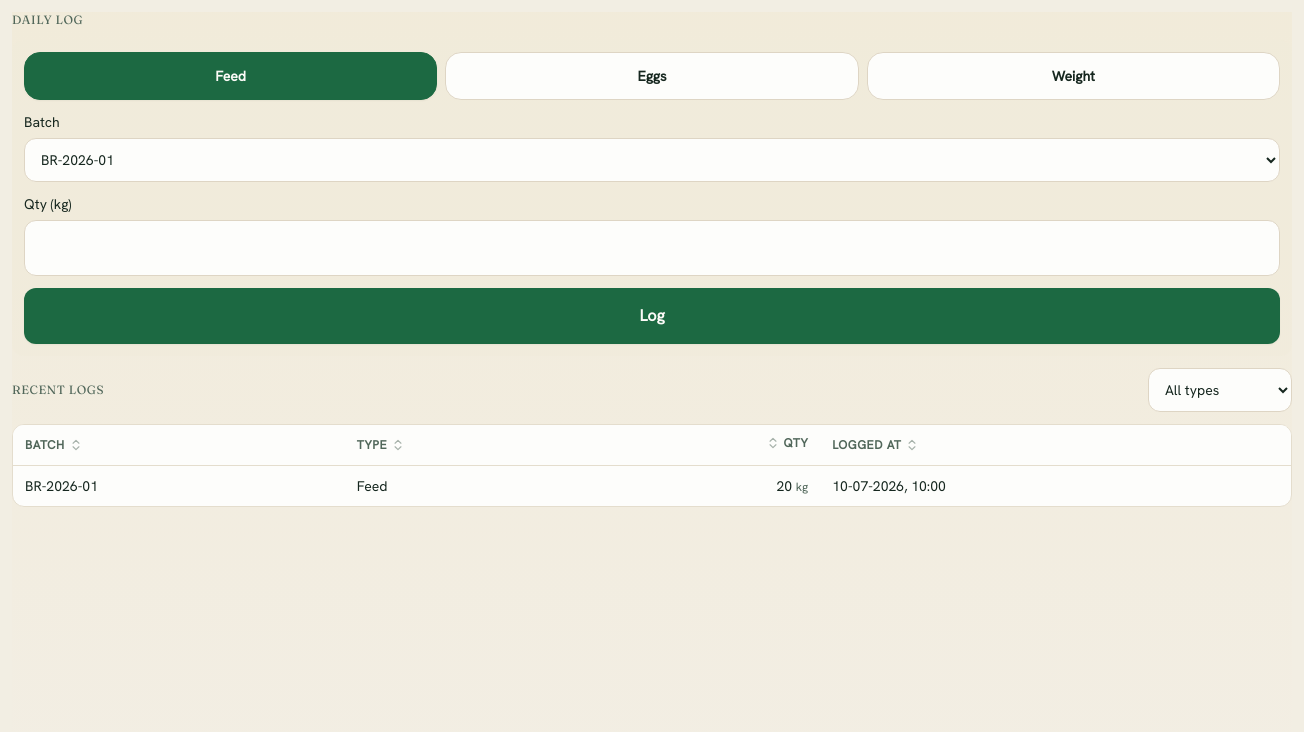
Test: DailyLogPanel (11.6a rewrite, offline queue intact) › keeps the entry queued and shows the pending chip when the POST fails (offline)
Type "7" into the number field with test id "log-qty".
click(652, 248); type("7")  # box x1=24 y1=220 x2=1280 y2=276
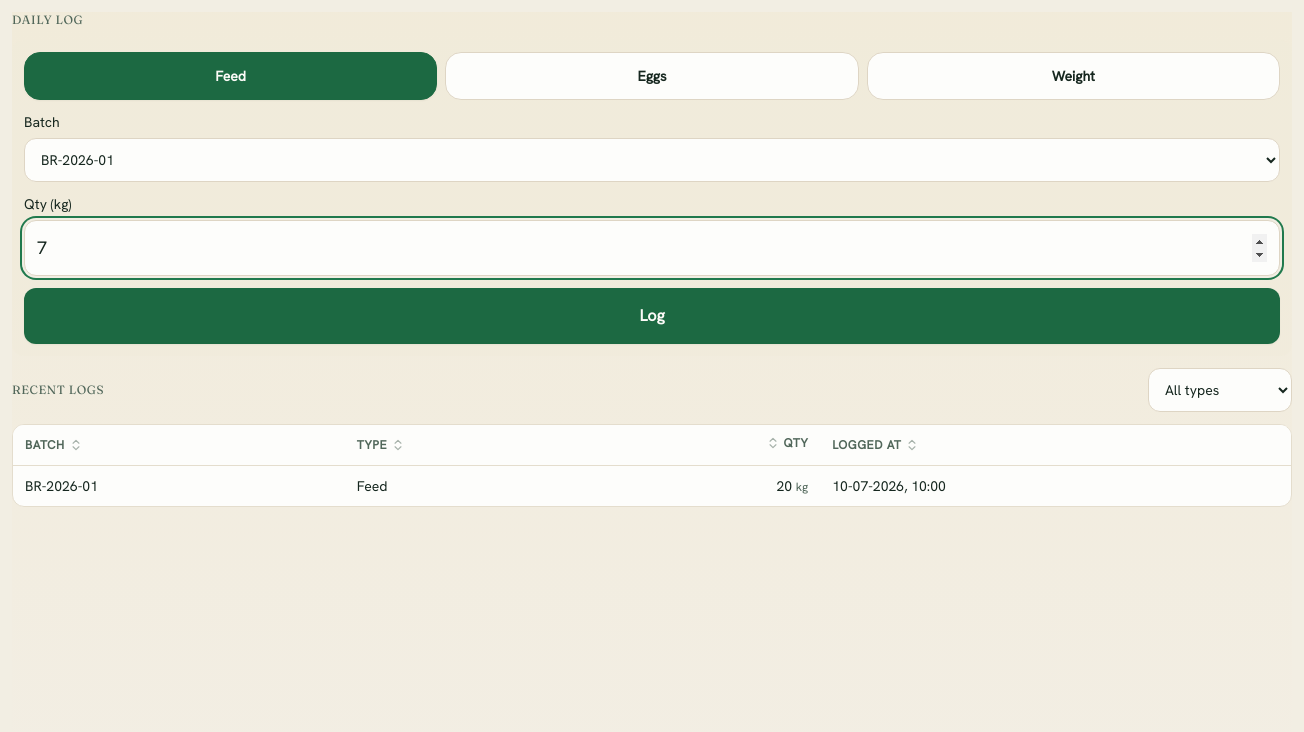
Click the button with test id "log-submit".
click(652, 316)  # box x1=24 y1=288 x2=1280 y2=344
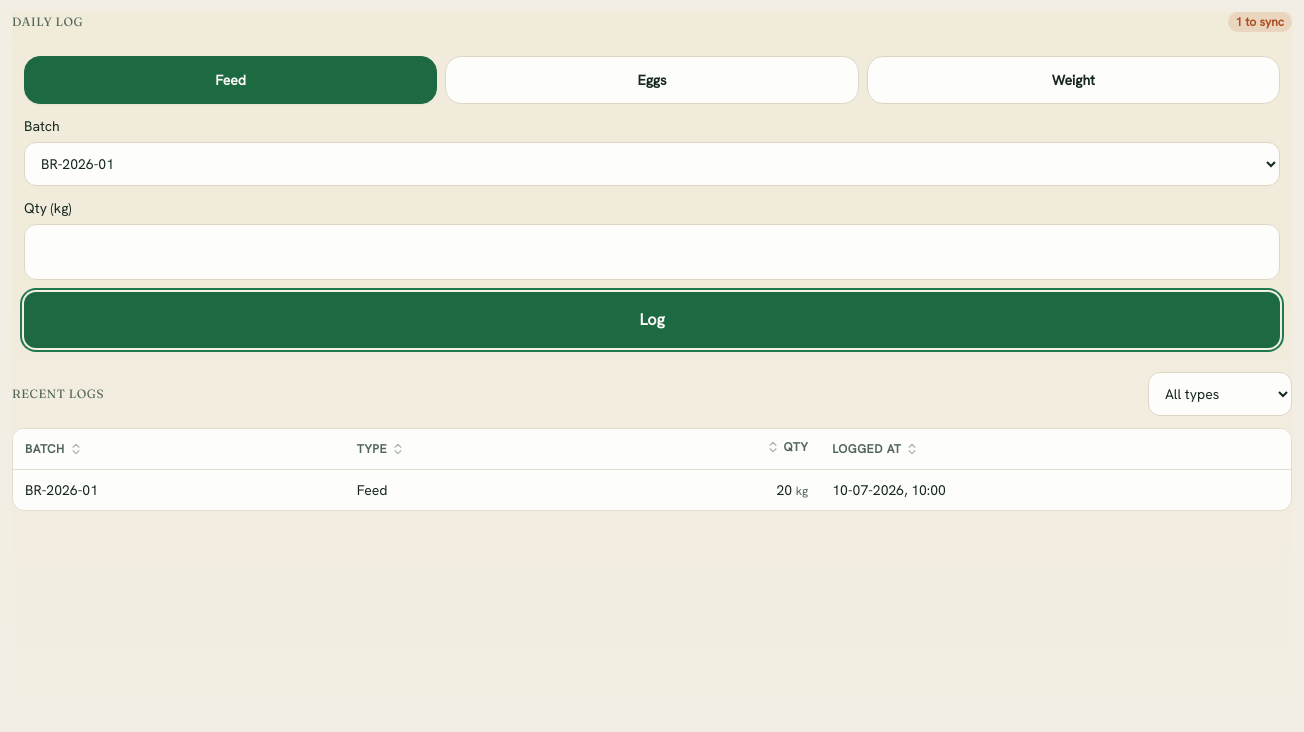
Expected: the text with test id "log-pending" reads "1 to sync", x1=1236 y1=14 x2=1284 y2=30
